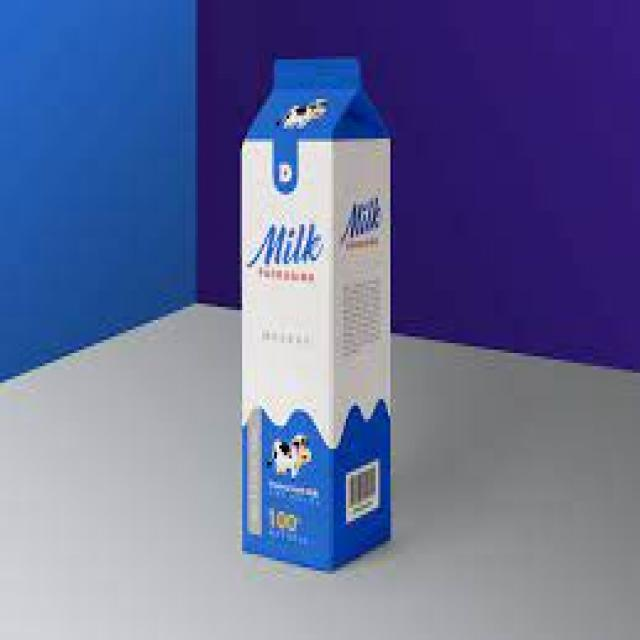non_white_jug: (213, 59, 425, 600)
